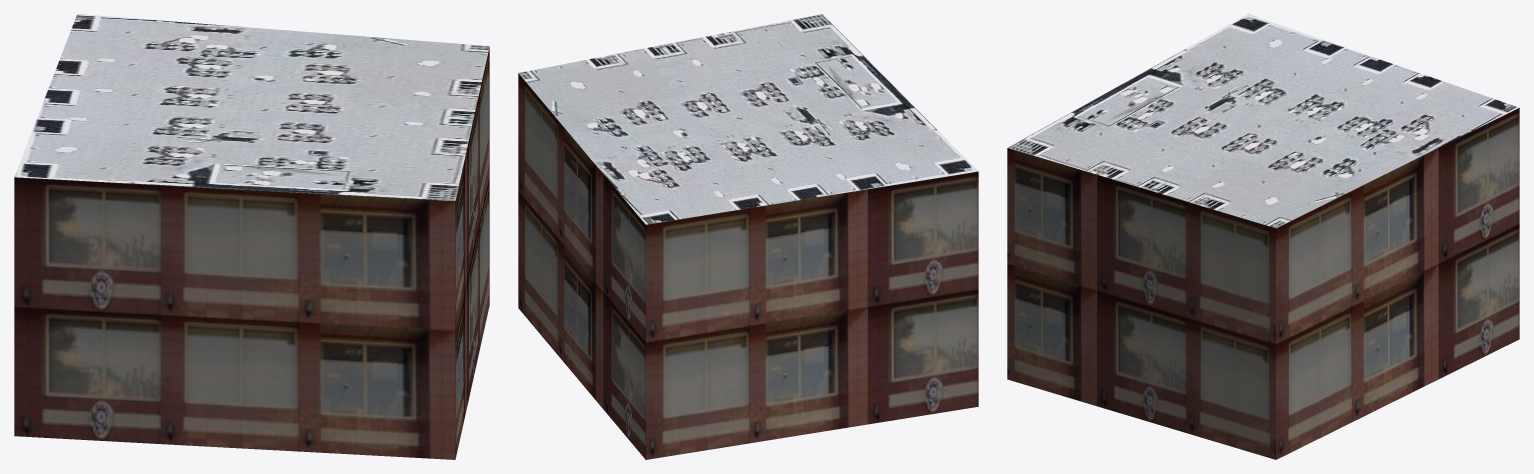
File: ResTex__2396.fbx
3 views of the same model, side by side, from view 1: azimuth 30°, elevation 25°; view 2: azimuth 150°, elevation 25°; view 3: azimuth 270°, elevation 25° (orthographic). The views are drawn at different scales.
Parts seen in each view (by area): view 1: CityEngineMaterial_13_m, CityEngineMaterial_m; view 2: CityEngineMaterial_13_m, CityEngineMaterial_m; view 3: CityEngineMaterial_13_m, CityEngineMaterial_m.
Boxes of the visible parts, x1=… form: CityEngineMaterial_13_m: x1=14, y1=47, x2=489, y2=459; CityEngineMaterial_m: x1=14, y1=14, x2=489, y2=200; CityEngineMaterial_13_m: x1=518, y1=73, x2=978, y2=459; CityEngineMaterial_m: x1=518, y1=14, x2=978, y2=224; CityEngineMaterial_13_m: x1=1007, y1=108, x2=1519, y2=459; CityEngineMaterial_m: x1=1007, y1=14, x2=1518, y2=228.
Size of the model in its own units: 11.91 by 6 by 12.02.
Materials: 2 (2 with a texture image).
